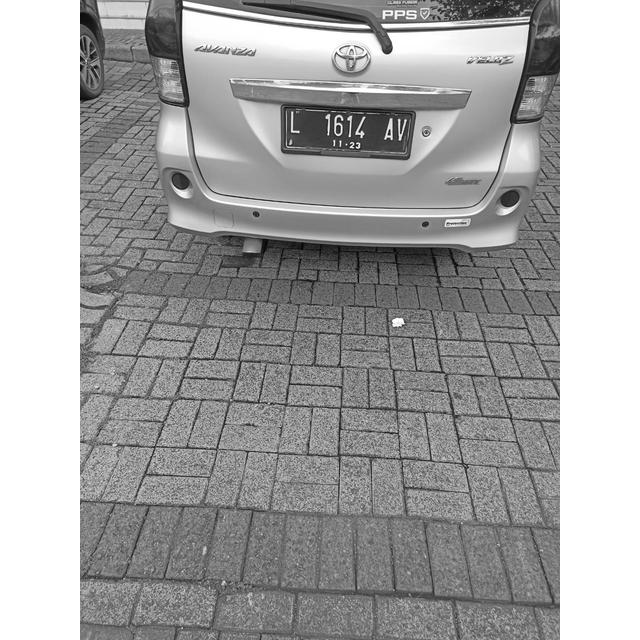license: (288, 111, 409, 154)
